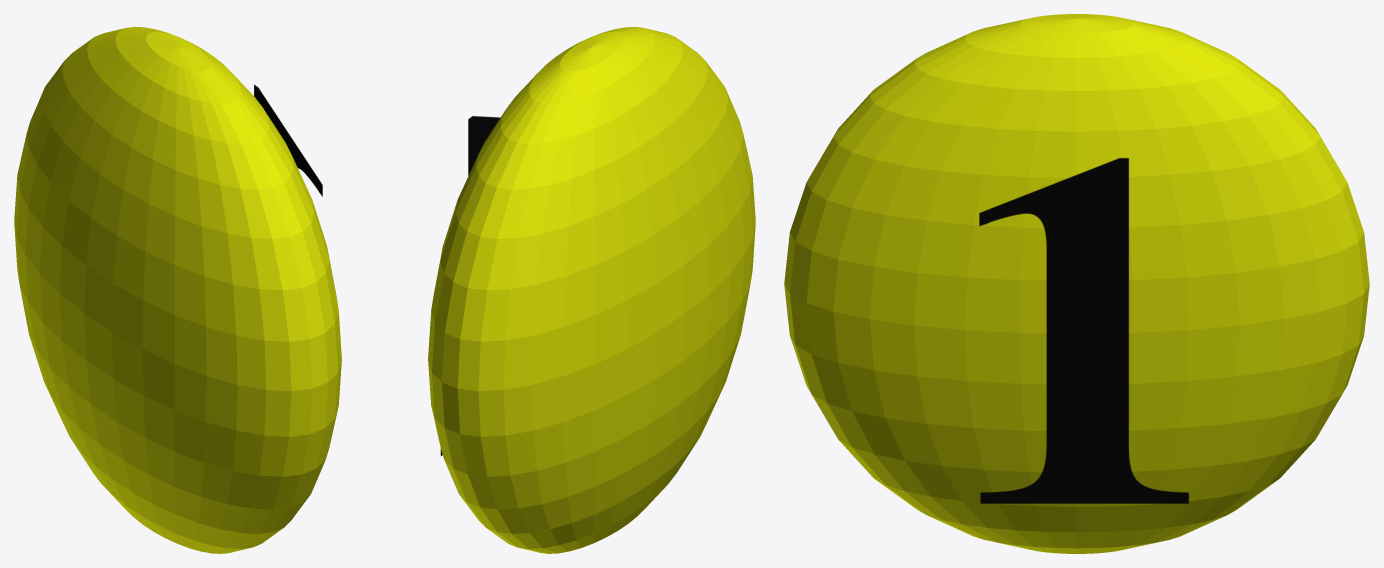
The model's file is numberMark.glb.
3 views of the same model, side by side, from view 1: azimuth 30°, elevation 25°; view 2: azimuth 150°, elevation 25°; view 3: azimuth 270°, elevation 25° (orthographic). The views are drawn at different scales.
Parts seen in each view (by area): view 1: Sphere, pngimg.com - number1_PNG14889; view 2: Sphere, pngimg.com - number1_PNG14889; view 3: Sphere, pngimg.com - number1_PNG14889.
Part boxes in pixels (<box>): Sphere: <box>14,26,341,553</box>; pngimg.com - number1_PNG14889: <box>254,84,322,196</box>; Sphere: <box>428,26,755,553</box>; pngimg.com - number1_PNG14889: <box>440,116,500,455</box>; Sphere: <box>784,14,1369,553</box>; pngimg.com - number1_PNG14889: <box>979,158,1188,503</box>.
Bounding box in the file's own units: 0.8328 × 2 × 2.
2 materials, 1 textured.
